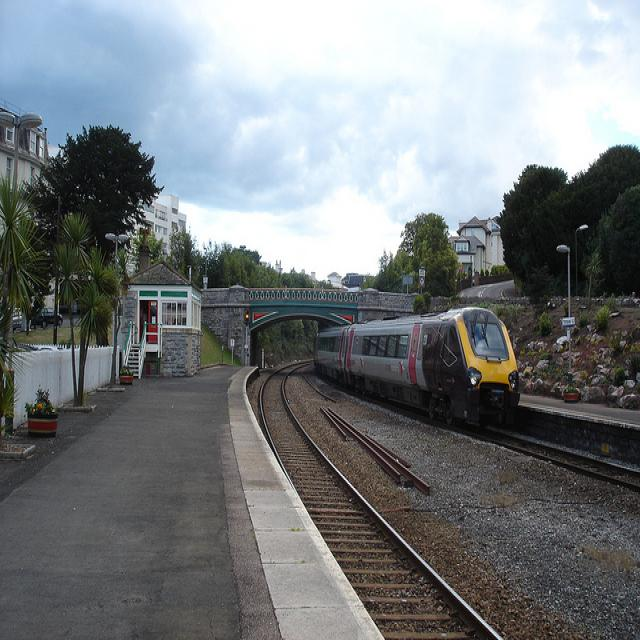Vehicle: (31, 306, 63, 328), (12, 308, 26, 330)
